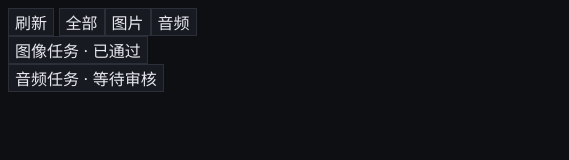
Test: audio filter in the shared task panel › filters the SAME list locally, says it is local, issues no extra read, no raw ids
Check: the number of list items is 2, box [8,36,148,64]; [8,64,164,92]
Click the button with test id "aud-filter-audio" at x=174, y=22, box [150,8,196,36]
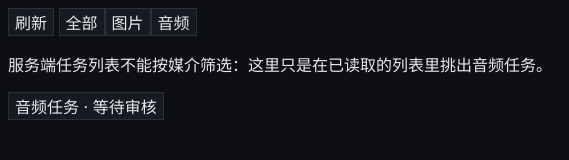
Check: the list item reads "音频任务 · 等待审核", box [8,92,164,120]
Check: the number of list items is 1, box [8,92,164,120]
Check: the text with test id "aud-filter-gap" reads "服务端任务列表不能按媒介筛选：这里只是在已读取的列表里挑出音频任务。", box [8,55,552,75]
Click the button with test id "aud-filter-all" at x=82, y=22, box [58,8,104,36]
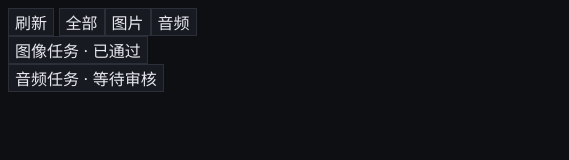
Check: the number of list items is 2, box [8,36,148,64]; [8,64,164,92]
